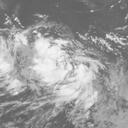cyclone: (38, 38, 99, 104)
